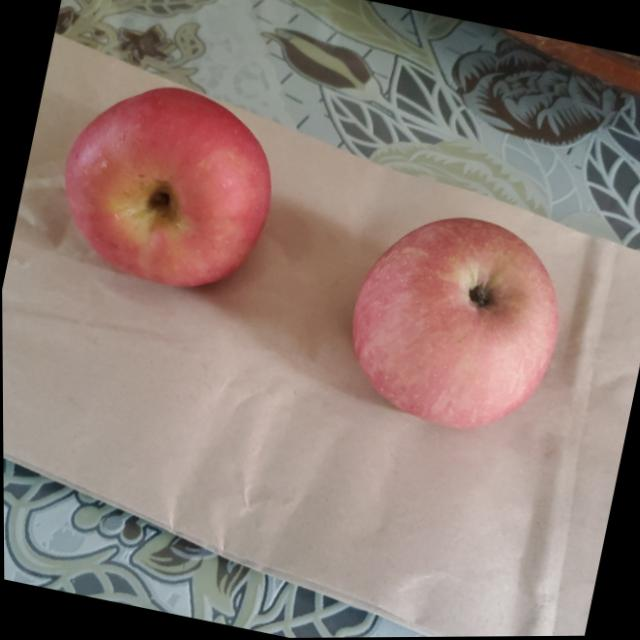apple: (334, 196, 579, 446), (44, 62, 289, 298)
